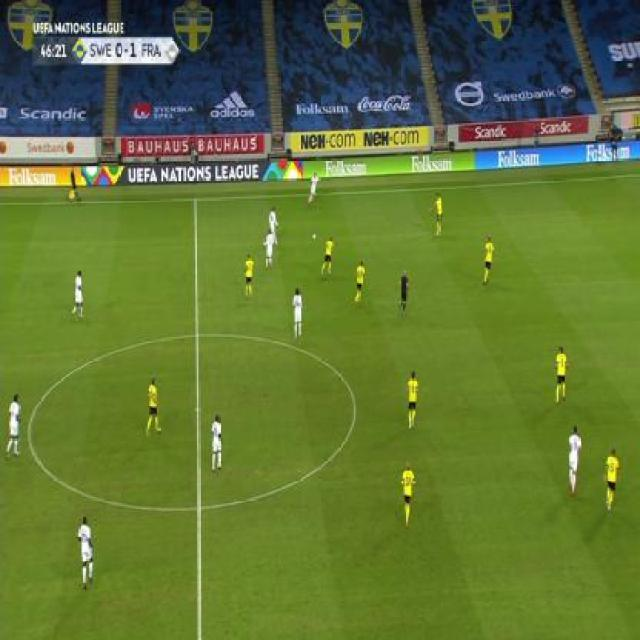ball: (312, 232, 317, 241)
player: (76, 513, 96, 592), (4, 392, 24, 460), (602, 446, 621, 514), (399, 461, 418, 529), (566, 424, 583, 498), (145, 376, 164, 438), (405, 369, 421, 432), (553, 344, 570, 403), (208, 413, 224, 473), (70, 269, 86, 320), (291, 286, 305, 340), (397, 267, 411, 318), (481, 235, 495, 286), (353, 259, 367, 307), (320, 236, 336, 276), (430, 191, 444, 236), (242, 253, 255, 299), (266, 206, 280, 246), (264, 230, 277, 270), (308, 171, 321, 205), (68, 169, 81, 202)
